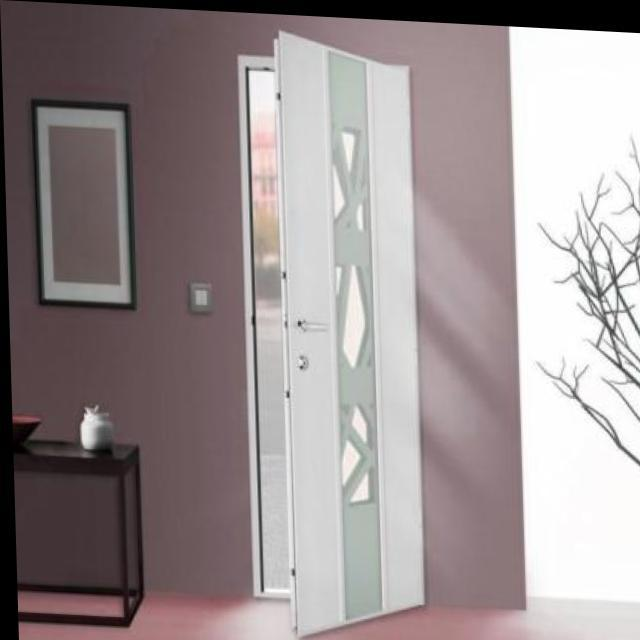door_handle: (292, 314, 334, 340)
